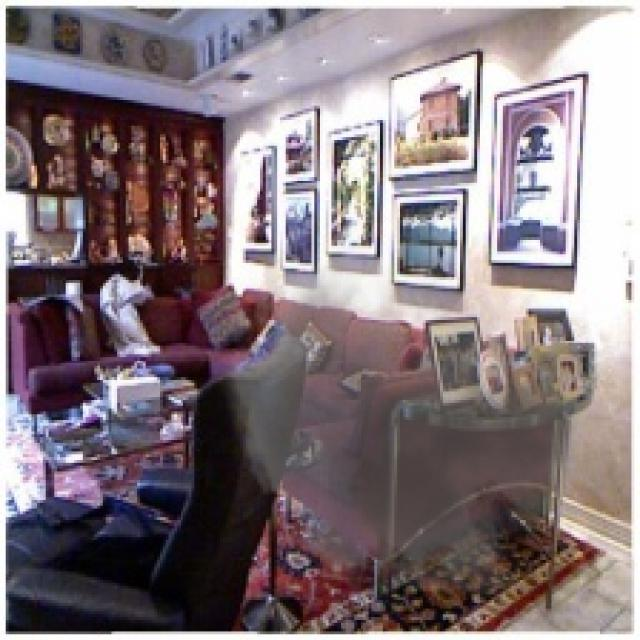smoke: (206, 200, 611, 617)
